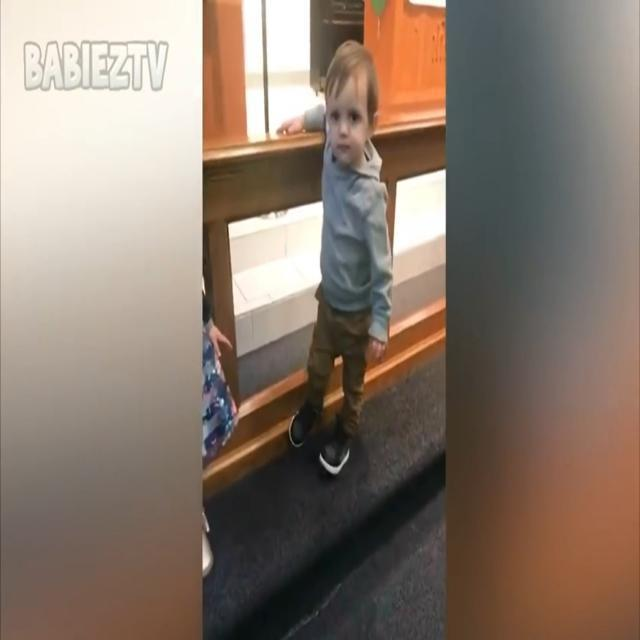child: (277, 44, 393, 473)
